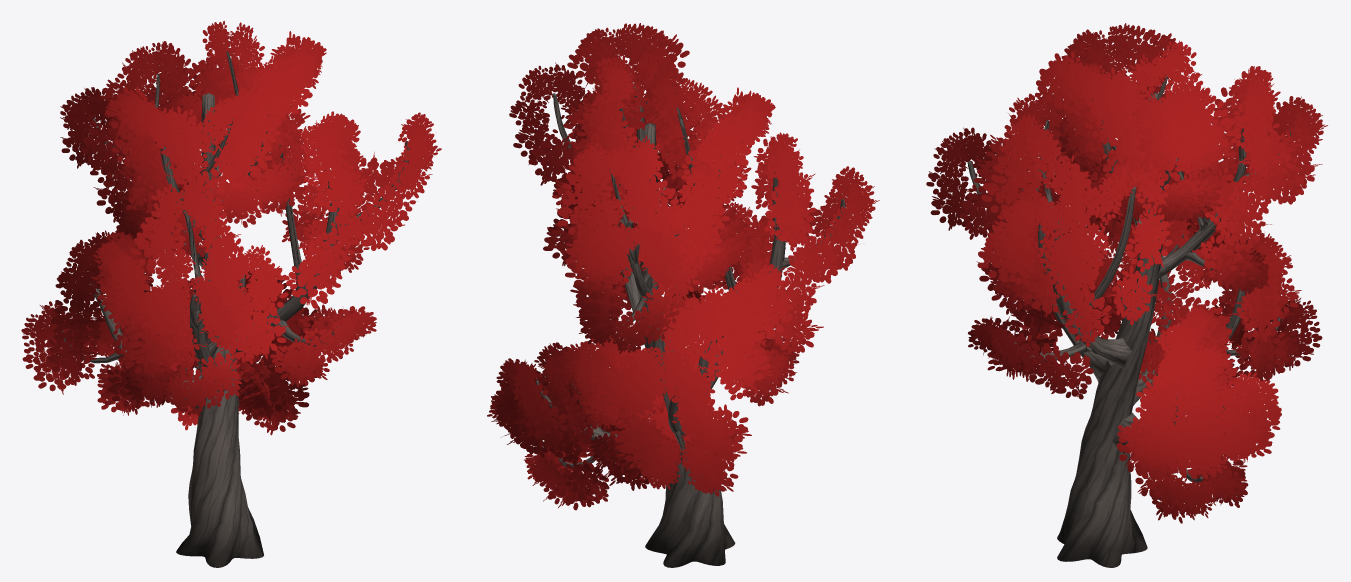
The model's file is TwistedTree_3.glb.
3 views of the same model, side by side, from view 1: azimuth 30°, elevation 25°; view 2: azimuth 150°, elevation 25°; view 3: azimuth 270°, elevation 25° (orthographic). The views are drawn at different scales.
Parts seen in each view (by area): view 1: TwistedTree_3; view 2: TwistedTree_3; view 3: TwistedTree_3.
Boxes of the visible parts, x1,y1,x2,y2 form: TwistedTree_3: [21, 21, 441, 567]; TwistedTree_3: [487, 23, 879, 567]; TwistedTree_3: [926, 23, 1327, 567].
Bounding box in the file's own units: 11.36 × 16.07 × 11.51.
2 materials, 2 textured.
